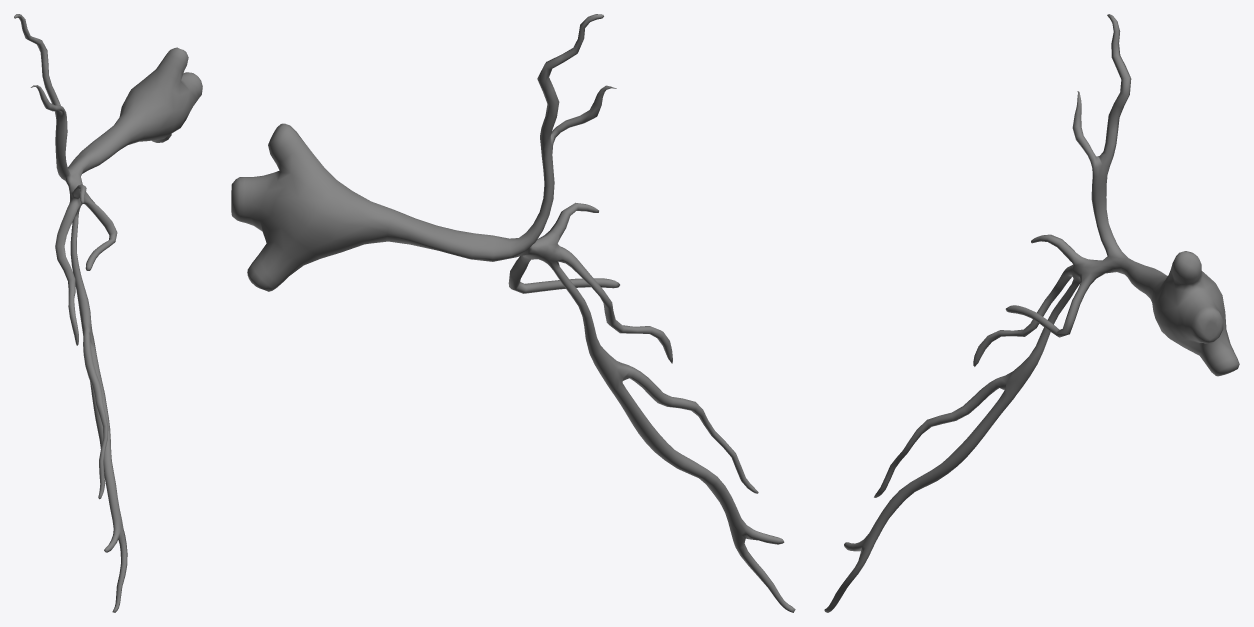
File: n_cnv.obj
3 renders of one model, left to right at view 1: azimuth 30°, elevation 25°; view 2: azimuth 150°, elevation 25°; view 3: azimuth 270°, elevation 25°, orthographic. The views are drawn at different scales.
Visible parts, largest first — view 1: Group24652; view 2: Group24652; view 3: Group24652.
Part boxes in pixels (left/top/right/bottom): Group24652: left=14, top=14, right=202, bottom=612; Group24652: left=231, top=14, right=795, bottom=612; Group24652: left=824, top=14, right=1239, bottom=612.
Bounding box in the file's own units: 333 × 659 × 407.
1 material, 1 textured.
